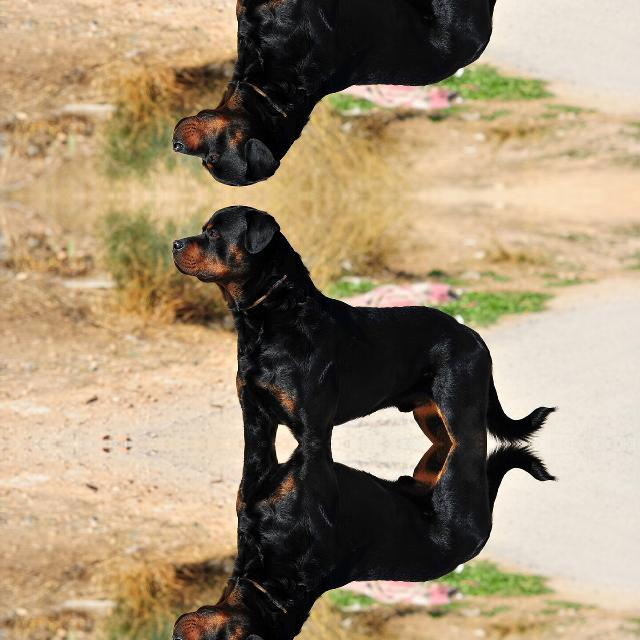dog: (165, 200, 561, 444), (165, 444, 561, 640), (165, 0, 561, 190)
